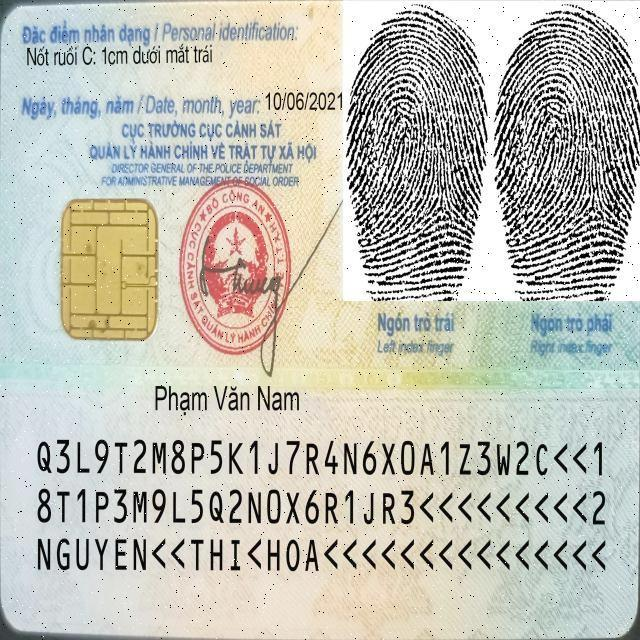features: (23, 41, 223, 72)
finger_print: (342, 2, 495, 361), (494, 2, 640, 360)
issue_date: (263, 84, 345, 119)
